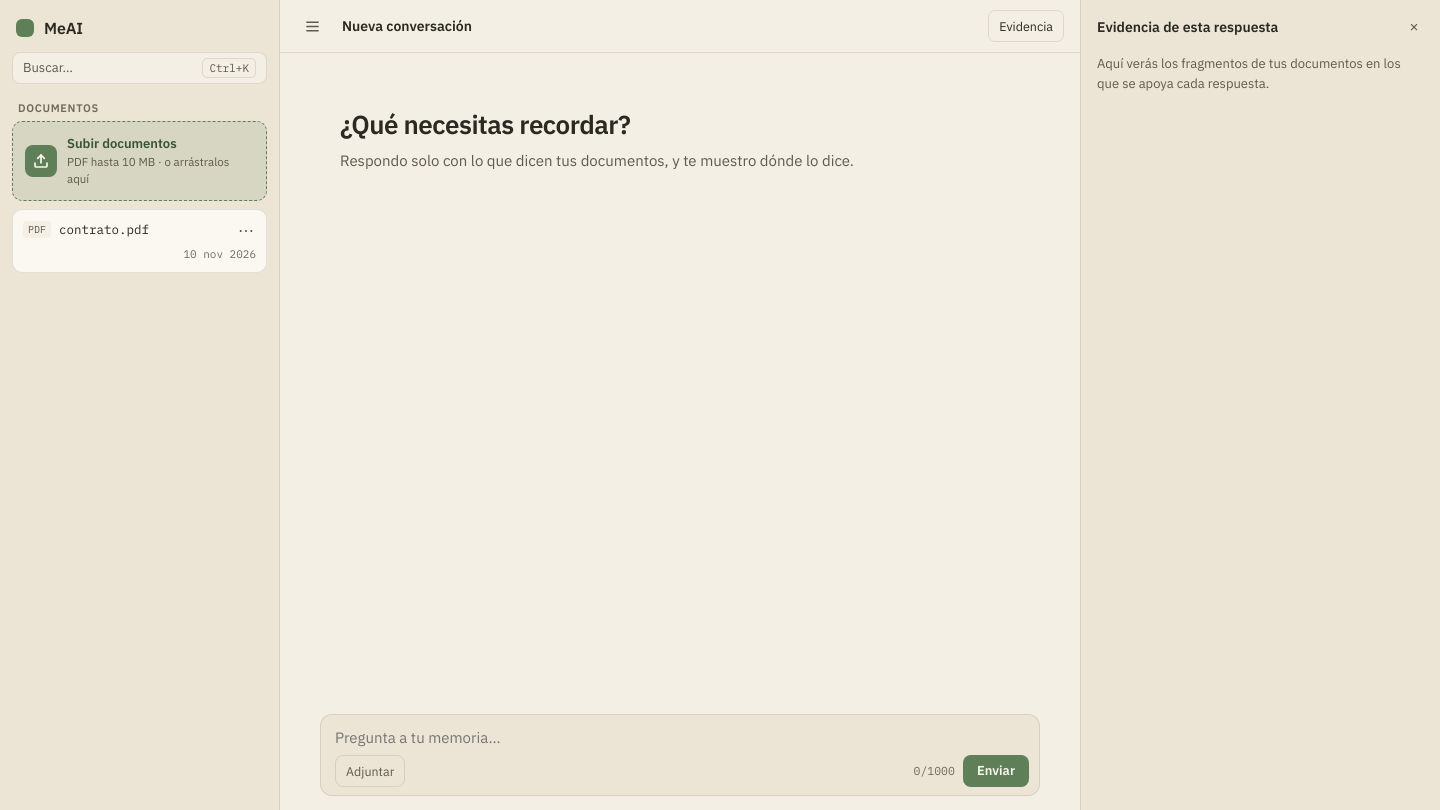
Test: removes the document from the list only after confirmed DELETE succeeds with 204
Click the button named "Más acciones de contrato.pdf" at coordinates (246, 230), box [230,214,262,246]
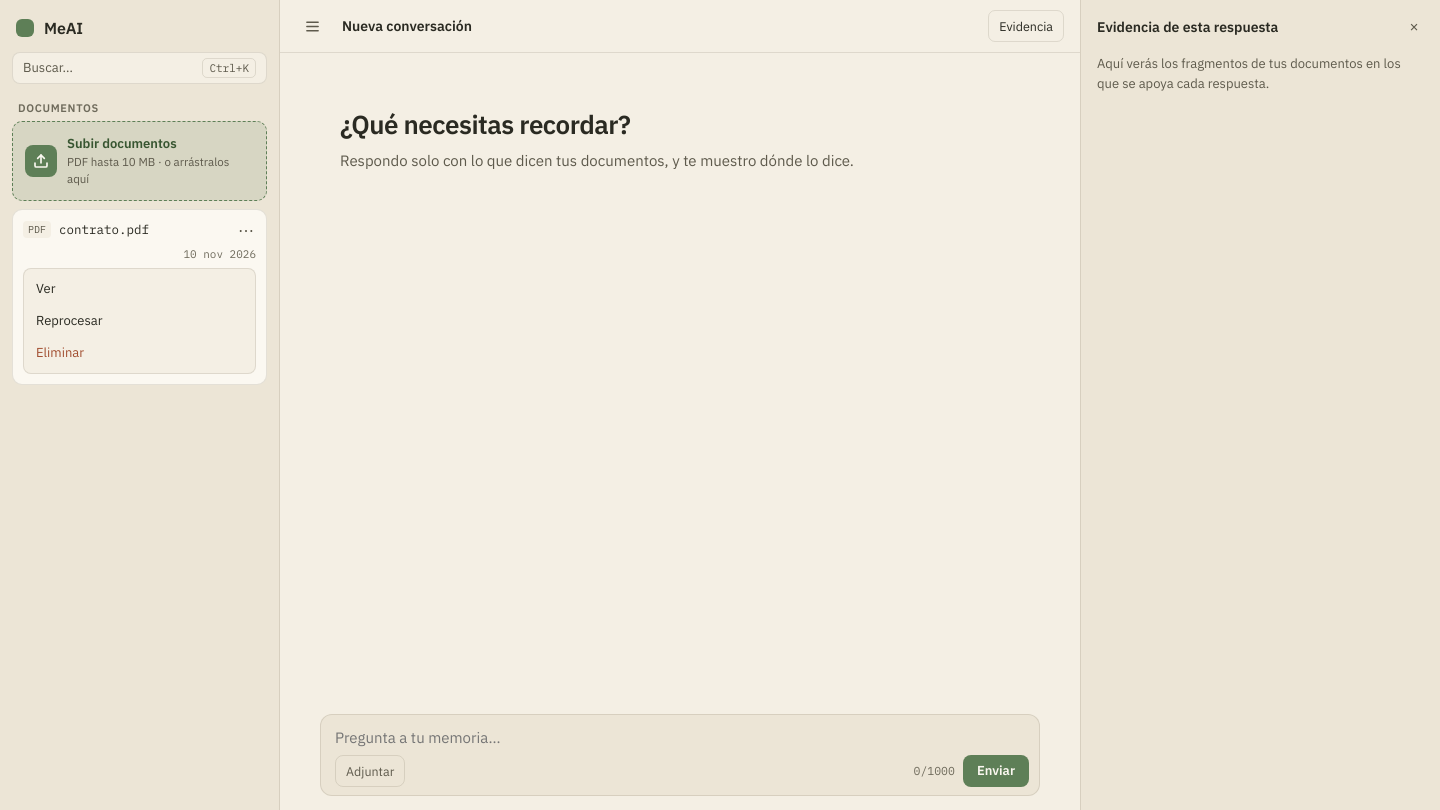
Click the menu item with aria-label "Eliminar contrato.pdf" at coordinates (140, 353), box [28,337,251,369]
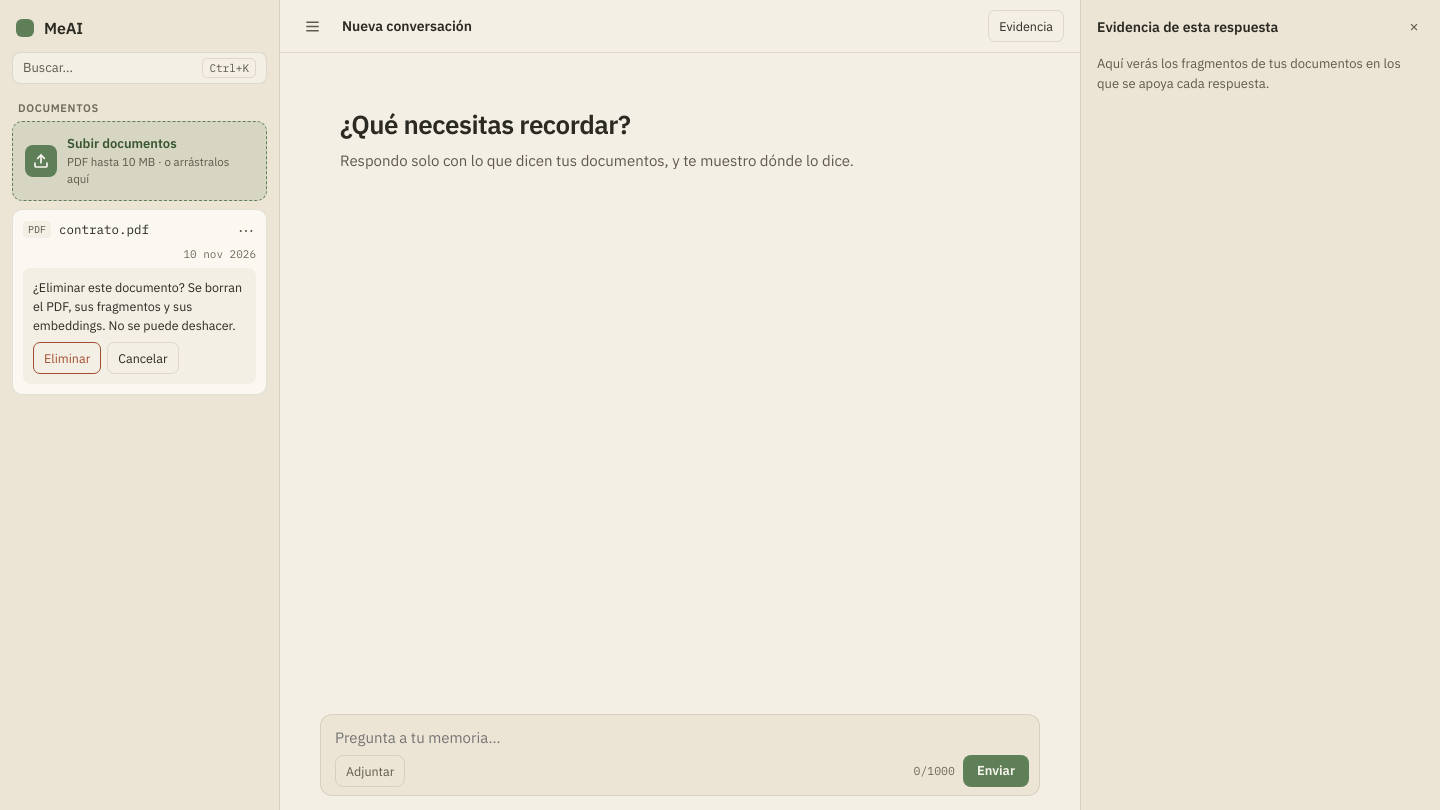
Expected: the element "contrato.pdf" is shown, [12,208,267,395]
Click the button with aria-label "Confirmar: eliminar contrato.pdf" at coordinates (67, 358), box [33,342,101,374]
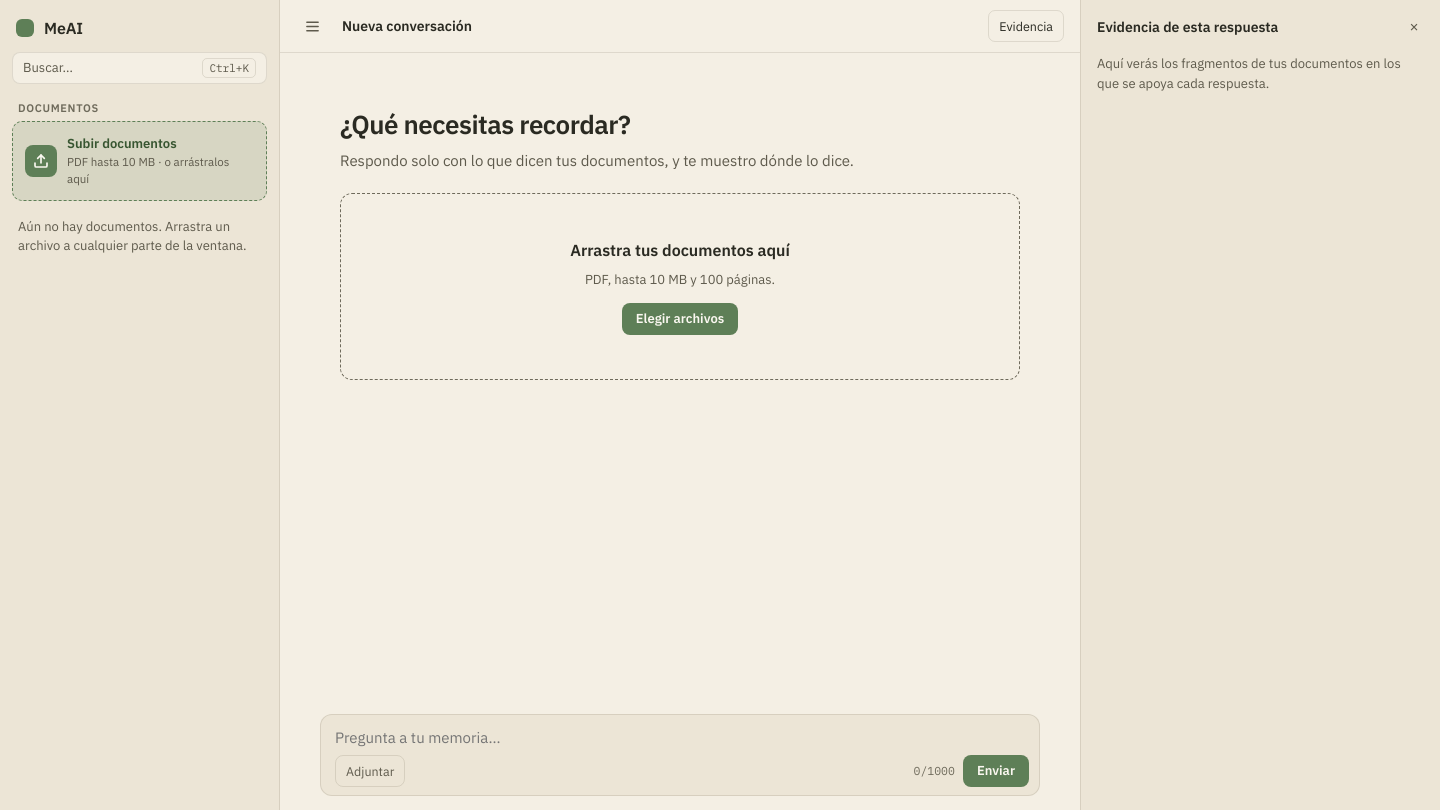
Expected: the text "contrato.pdf" is gone
